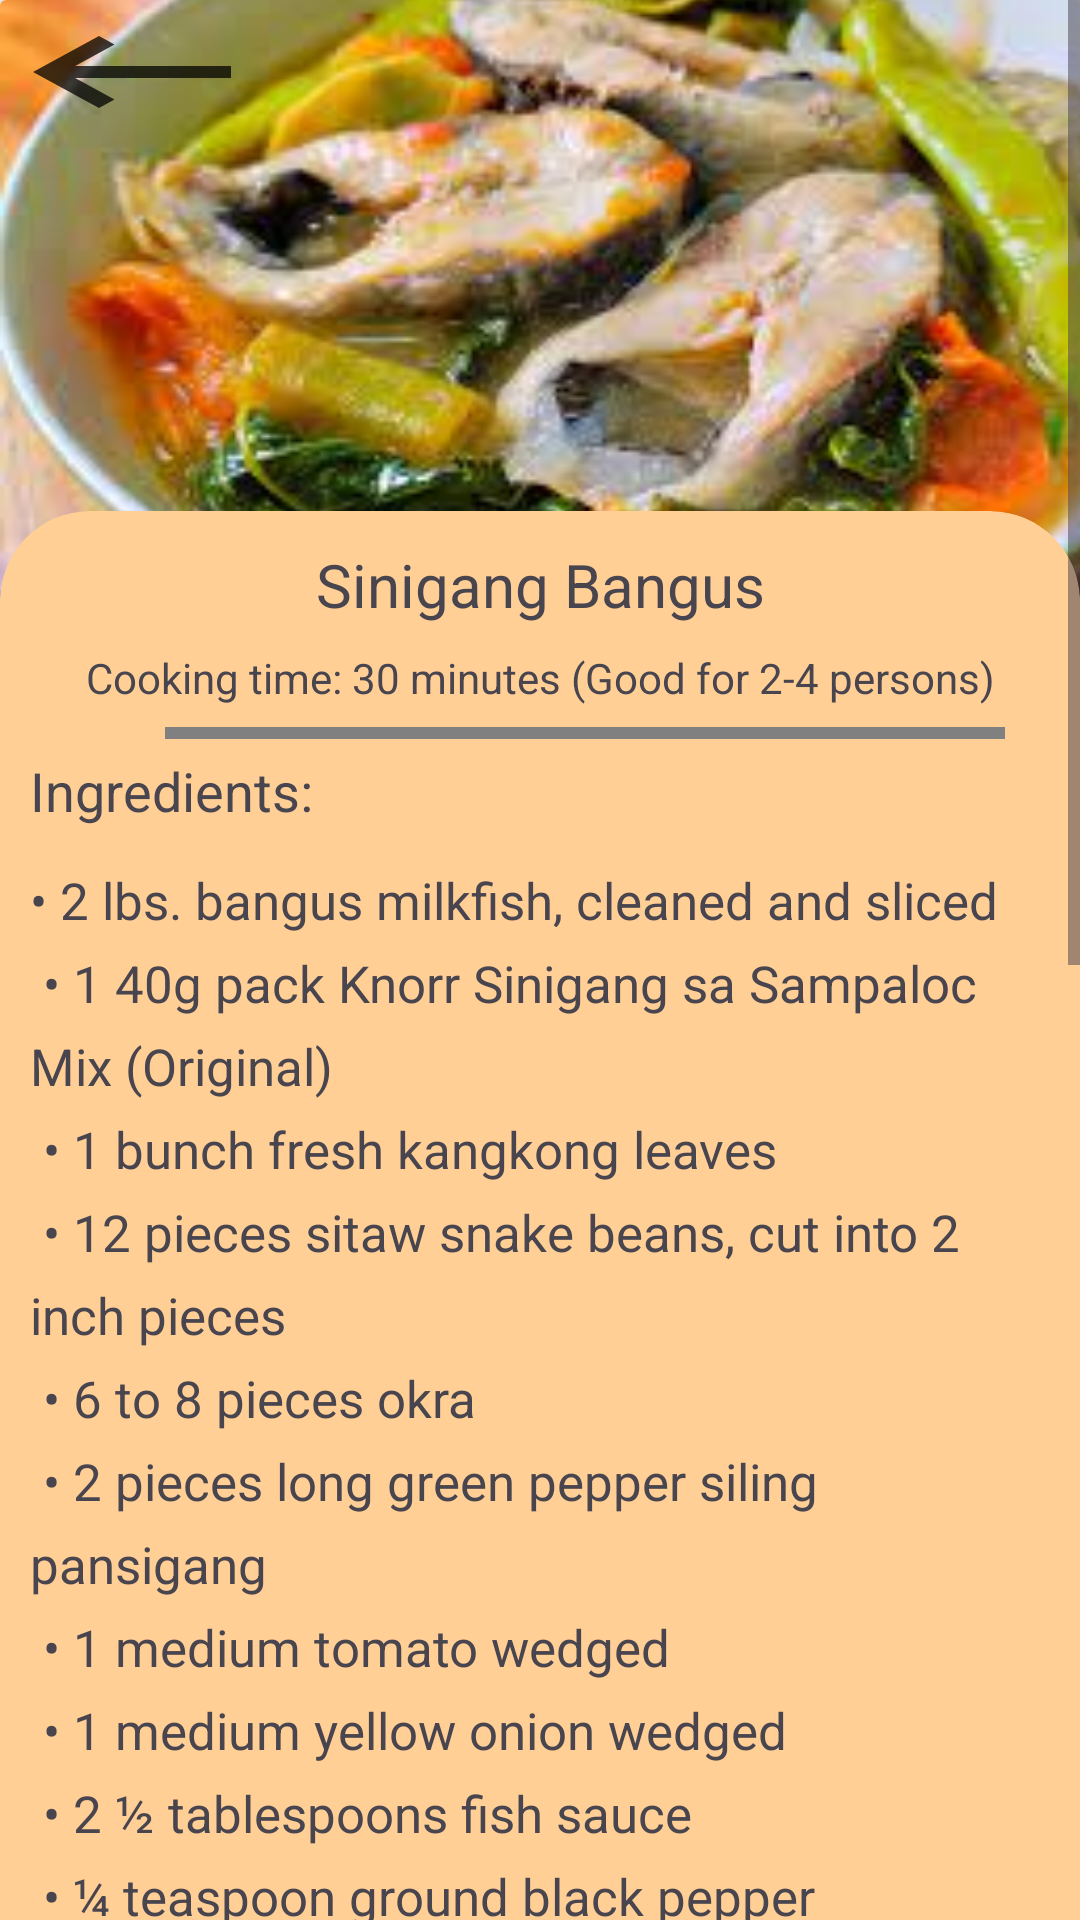

Where to tap for icons on this 1080x1920 app screen, as point (x, y):
keyboard backspace: point (132, 72)
